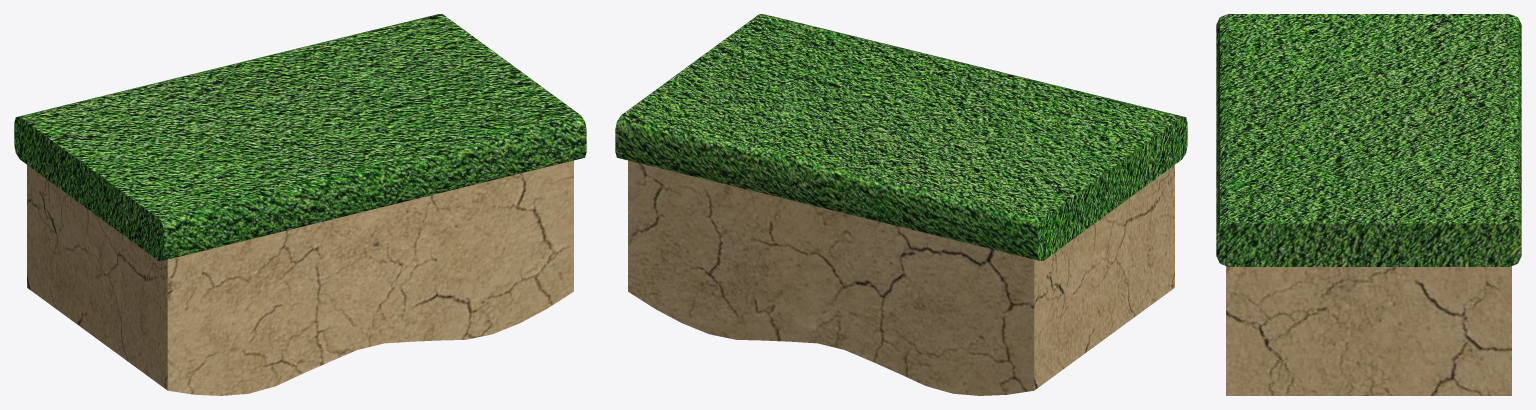
File: plataformaFragmentoCamello.fbx
The picture shows the model from 3 angles, left to right: view 1: azimuth 30°, elevation 25°; view 2: azimuth 150°, elevation 25°; view 3: azimuth 270°, elevation 25°; orthographic projection.
Visible parts, largest first — view 1: tapaPlataformaRectangular2, plataformaCamelloFragemento; view 2: tapaPlataformaRectangular2, plataformaCamelloFragemento; view 3: tapaPlataformaRectangular2, plataformaCamelloFragemento.
Boxes of the visible parts, box(x1,y1,x2,y2) form: tapaPlataformaRectangular2: box(14, 14, 586, 260); plataformaCamelloFragemento: box(27, 160, 573, 395); tapaPlataformaRectangular2: box(615, 14, 1187, 260); plataformaCamelloFragemento: box(628, 160, 1174, 395); tapaPlataformaRectangular2: box(1216, 14, 1521, 266); plataformaCamelloFragemento: box(1226, 266, 1511, 395).
Bounding box in the file's own units: 5.2 × 2.31 × 3.2.
